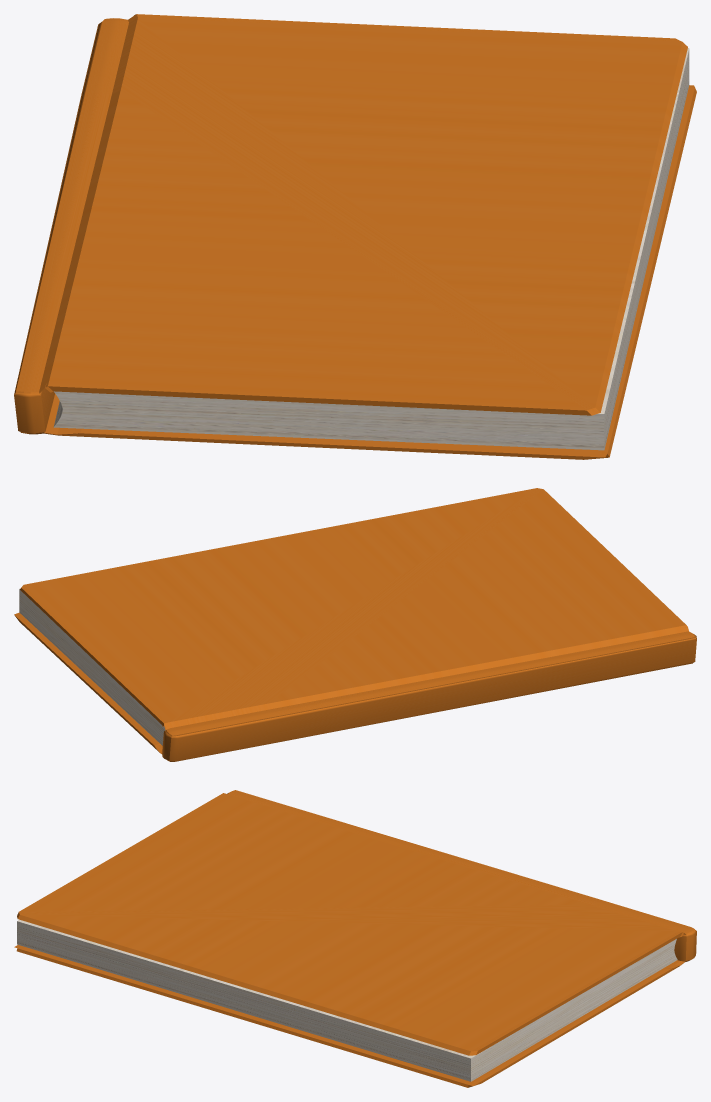
The model's file is Books_Orange.fbx.
The picture shows the model from 3 angles, top to bottom: view 1: azimuth 30°, elevation 25°; view 2: azimuth 150°, elevation 25°; view 3: azimuth 270°, elevation 25°; orthographic projection. The views are drawn at different scales.
Parts seen in each view (by area): view 1: pCube2; view 2: pCube2; view 3: pCube2.
Boxes of the visible parts, box(x1,y1,x2,y2) form: pCube2: box(14, 14, 696, 459); pCube2: box(14, 488, 696, 761); pCube2: box(14, 790, 696, 1087).
Size of the model in its own units: 5.78 by 0.3355 by 6.15.
Materials: 1 (1 with a texture image).
